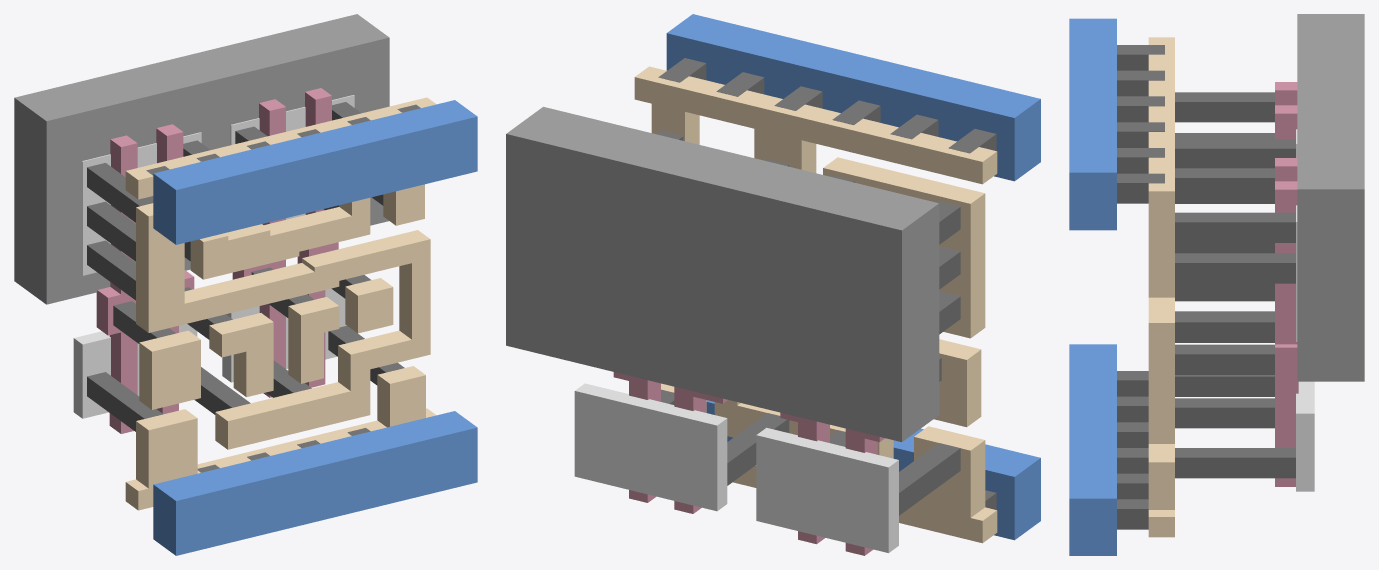
File: sky130_fd_sc_hd__a22oi_1.gds.gltf
3 views of the same model, side by side, from view 1: azimuth 30°, elevation 25°; view 2: azimuth 150°, elevation 25°; view 3: azimuth 270°, elevation 25° (orthographic). The views are drawn at different scales.
Visible parts, largest first — view 1: sky130_fd_sc_hd__a22oi_1_li1, sky130_fd_sc_hd__a22oi_1_met1, sky130_fd_sc_hd__a22oi_1_nwell, sky130_fd_sc_hd__a22oi_1_licon, sky130_fd_sc_hd__a22oi_1_poly, sky130_fd_sc_hd__a22oi_1_diff, sky130_fd_sc_hd__a22oi_1_mcon; view 2: sky130_fd_sc_hd__a22oi_1_nwell, sky130_fd_sc_hd__a22oi_1_li1, sky130_fd_sc_hd__a22oi_1_diff, sky130_fd_sc_hd__a22oi_1_met1, sky130_fd_sc_hd__a22oi_1_licon, sky130_fd_sc_hd__a22oi_1_mcon, sky130_fd_sc_hd__a22oi_1_poly; view 3: sky130_fd_sc_hd__a22oi_1_licon, sky130_fd_sc_hd__a22oi_1_nwell, sky130_fd_sc_hd__a22oi_1_met1, sky130_fd_sc_hd__a22oi_1_li1, sky130_fd_sc_hd__a22oi_1_mcon, sky130_fd_sc_hd__a22oi_1_poly, sky130_fd_sc_hd__a22oi_1_diff.
Boxes of the visible parts, <box> form: sky130_fd_sc_hd__a22oi_1_li1: <box>125,97,436,510</box>; sky130_fd_sc_hd__a22oi_1_met1: <box>153,100,477,555</box>; sky130_fd_sc_hd__a22oi_1_nwell: <box>14,14,389,304</box>; sky130_fd_sc_hd__a22oi_1_licon: <box>87,102,404,431</box>; sky130_fd_sc_hd__a22oi_1_poly: <box>96,88,338,433</box>; sky130_fd_sc_hd__a22oi_1_diff: <box>73,95,354,418</box>; sky130_fd_sc_hd__a22oi_1_mcon: <box>146,104,420,472</box>; sky130_fd_sc_hd__a22oi_1_nwell: <box>506,106,939,441</box>; sky130_fd_sc_hd__a22oi_1_li1: <box>634,66,997,543</box>; sky130_fd_sc_hd__a22oi_1_diff: <box>574,383,898,553</box>; sky130_fd_sc_hd__a22oi_1_met1: <box>666,14,1040,540</box>; sky130_fd_sc_hd__a22oi_1_licon: <box>657,131,960,515</box>; sky130_fd_sc_hd__a22oi_1_mcon: <box>658,58,996,509</box>; sky130_fd_sc_hd__a22oi_1_poly: <box>613,372,884,555</box>; sky130_fd_sc_hd__a22oi_1_licon: <box>1175,92,1295,478</box>; sky130_fd_sc_hd__a22oi_1_nwell: <box>1297,14,1364,381</box>; sky130_fd_sc_hd__a22oi_1_met1: <box>1069,18,1116,555</box>; sky130_fd_sc_hd__a22oi_1_li1: <box>1148,37,1174,537</box>; sky130_fd_sc_hd__a22oi_1_mcon: <box>1117,45,1164,529</box>; sky130_fd_sc_hd__a22oi_1_poly: <box>1275,82,1298,486</box>; sky130_fd_sc_hd__a22oi_1_diff: <box>1296,129,1314,491</box>.
Size of the model in its own units: 3.14 by 3.2 by 2.24.
